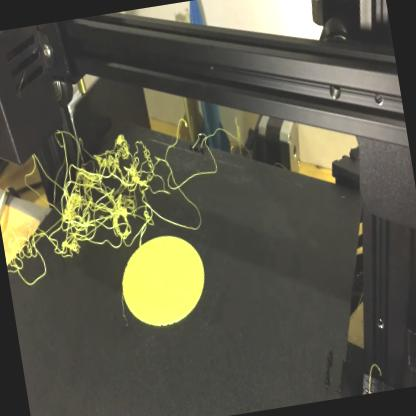fail: (10, 107, 169, 257)
